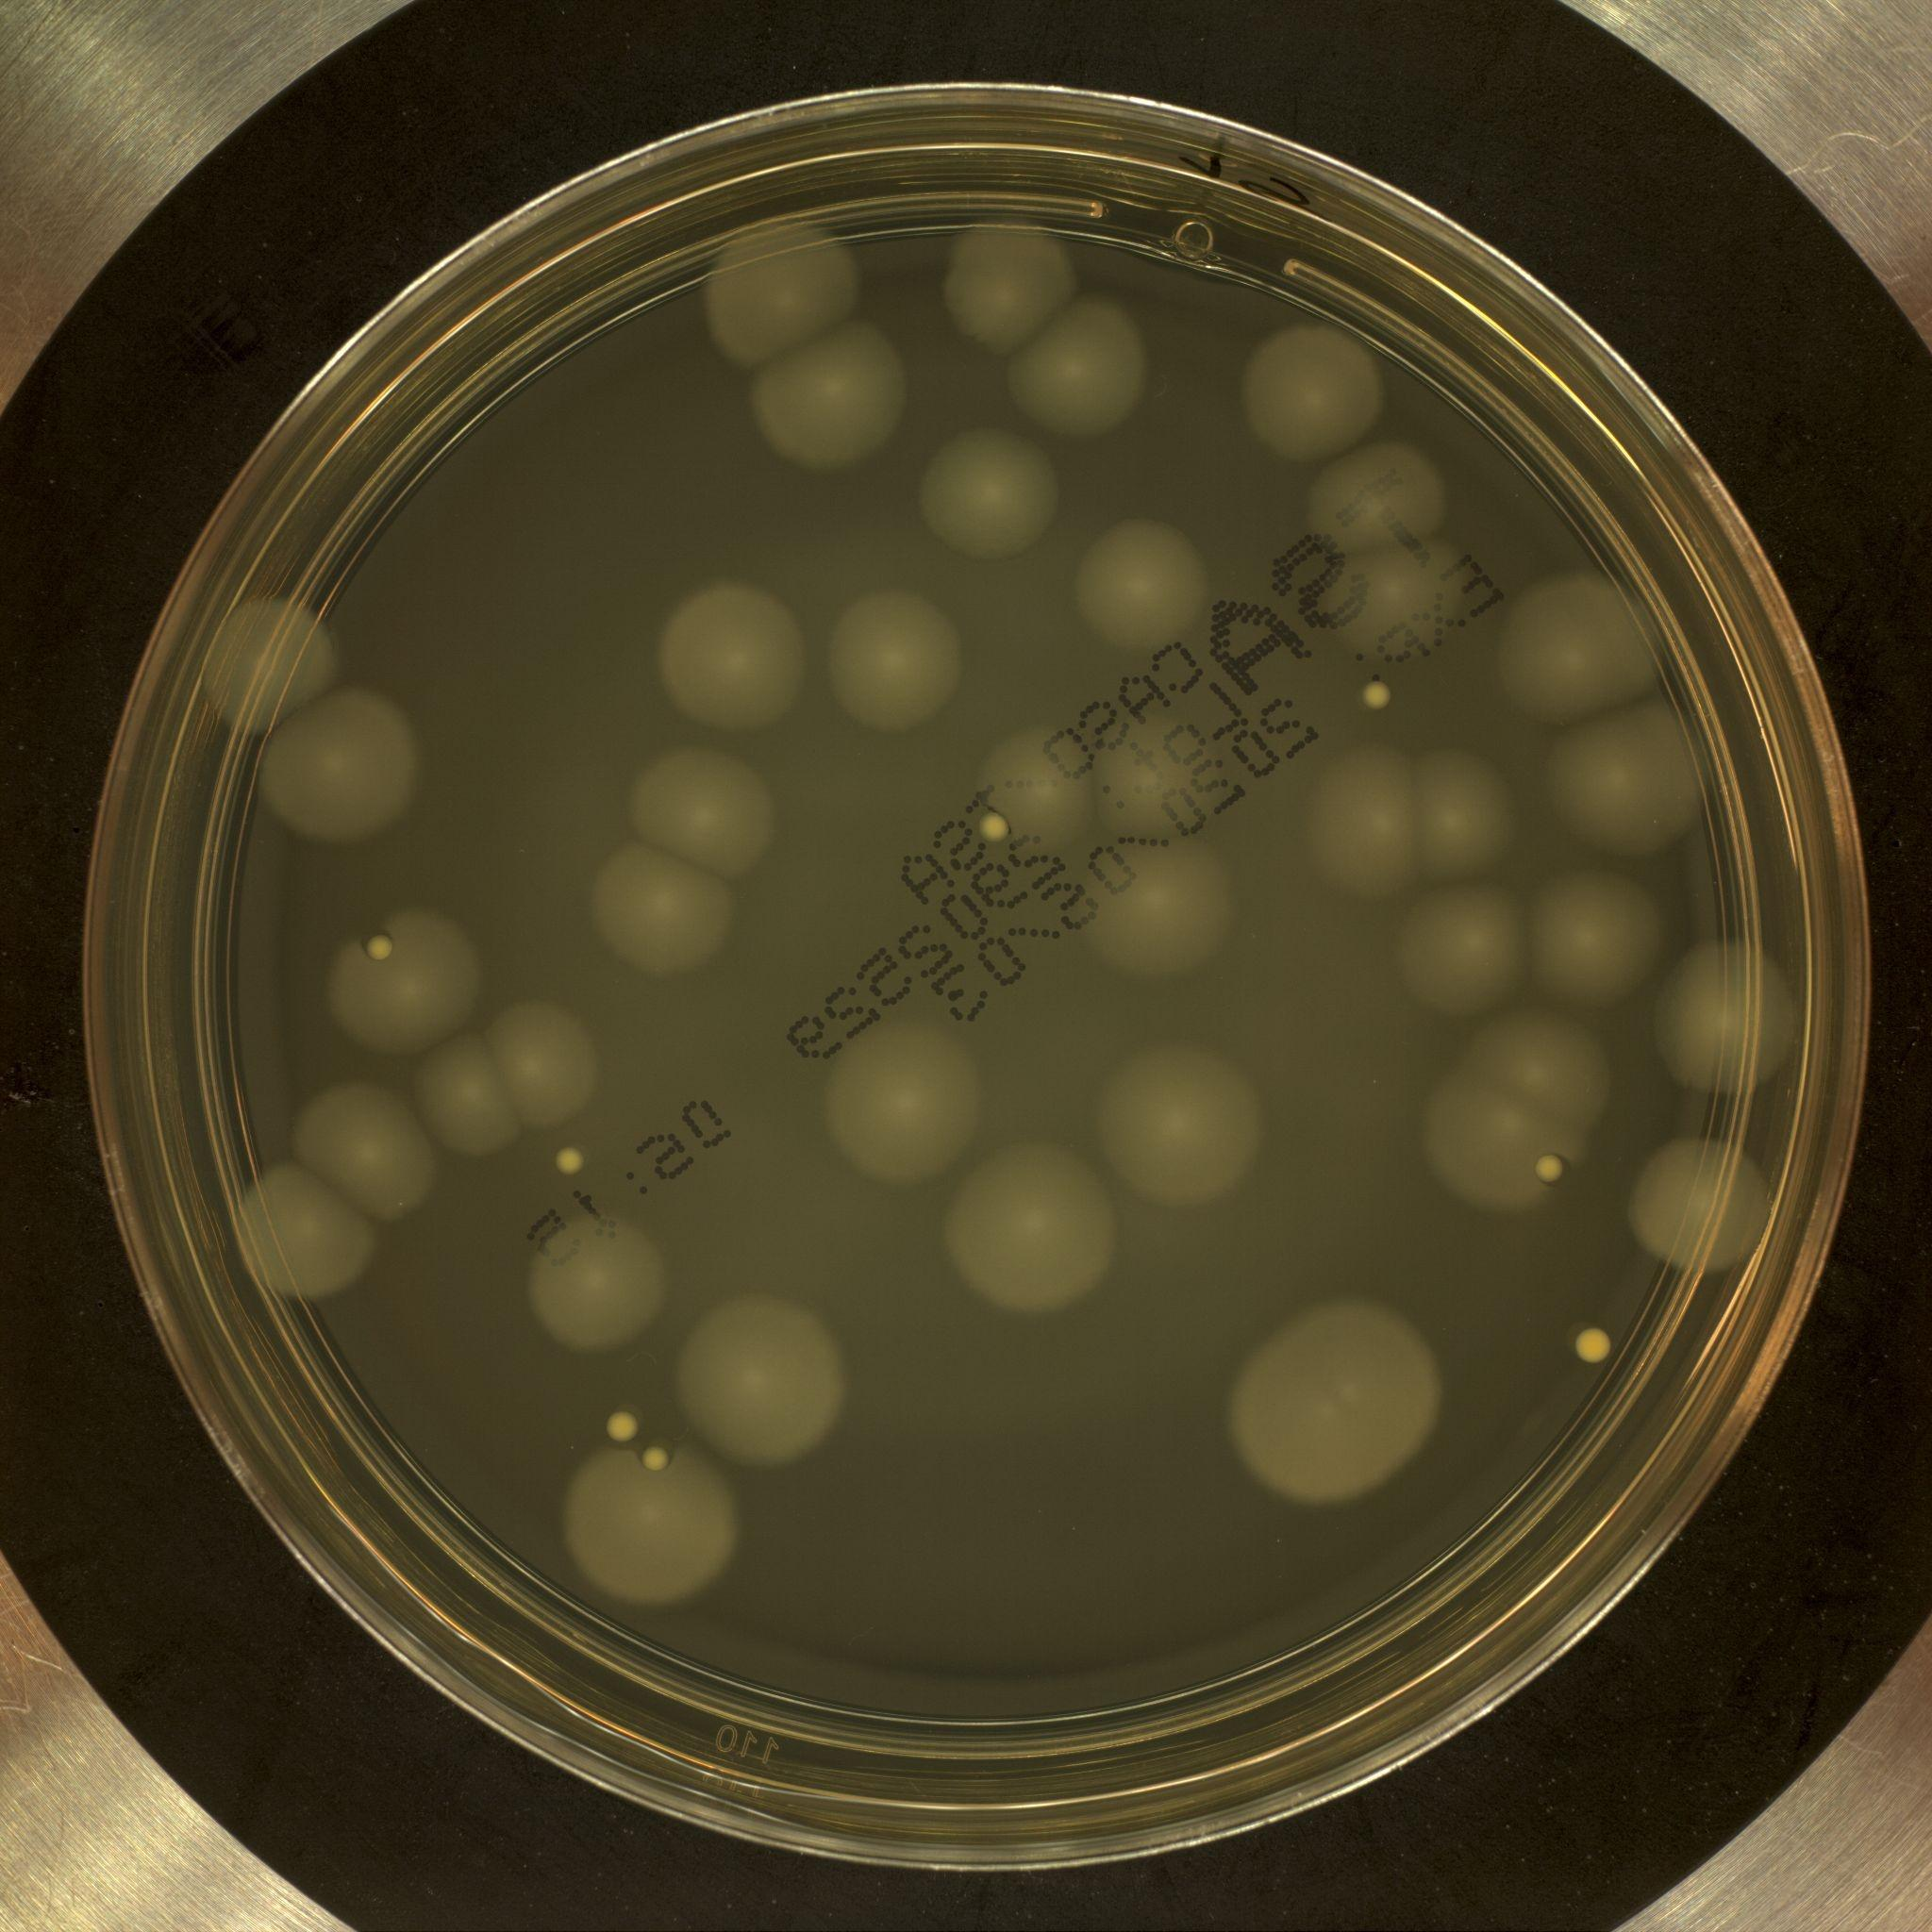e. coli: (1233, 1292, 1440, 1506), (1423, 1017, 1618, 1219), (941, 1149, 1122, 1317), (679, 1298, 852, 1464), (563, 1441, 736, 1607), (261, 689, 422, 841), (1083, 821, 1235, 979), (1549, 709, 1716, 851), (827, 1021, 974, 1181), (1505, 575, 1660, 721), (749, 321, 905, 464), (325, 911, 480, 1053), (707, 225, 860, 366), (1110, 1045, 1249, 1198), (1002, 298, 1150, 440), (663, 585, 802, 736), (823, 589, 971, 726), (1530, 866, 1671, 1009), (591, 841, 740, 977), (1663, 936, 1787, 1096), (1626, 1140, 1776, 1270), (1246, 317, 1379, 462), (628, 747, 778, 875), (233, 1160, 375, 1296), (197, 600, 342, 732), (291, 1079, 433, 1213), (533, 1211, 662, 1355), (939, 213, 1072, 343), (1078, 517, 1206, 653), (1408, 877, 1534, 1015), (1094, 711, 1224, 841), (924, 426, 1054, 555), (1313, 445, 1452, 562), (1318, 753, 1426, 902), (1332, 553, 1473, 658), (490, 1004, 601, 1126), (982, 728, 1094, 847), (412, 1038, 522, 1158), (1421, 749, 1514, 879)
